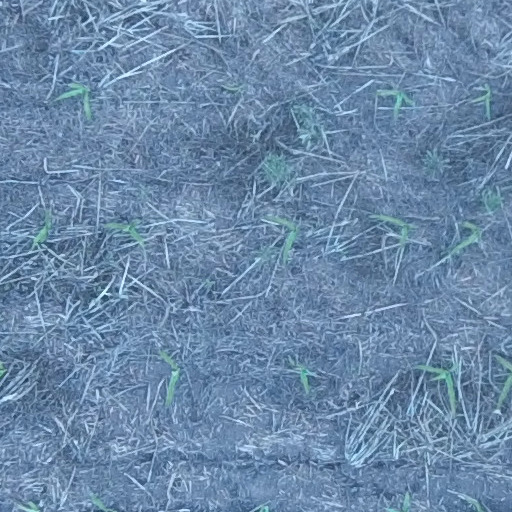planta: (410, 363, 458, 415), (264, 214, 300, 263), (373, 212, 412, 249), (56, 82, 93, 119), (157, 348, 180, 407), (445, 221, 482, 256), (373, 87, 417, 115), (104, 218, 145, 247), (29, 210, 52, 251), (470, 82, 493, 121), (286, 359, 311, 393)
